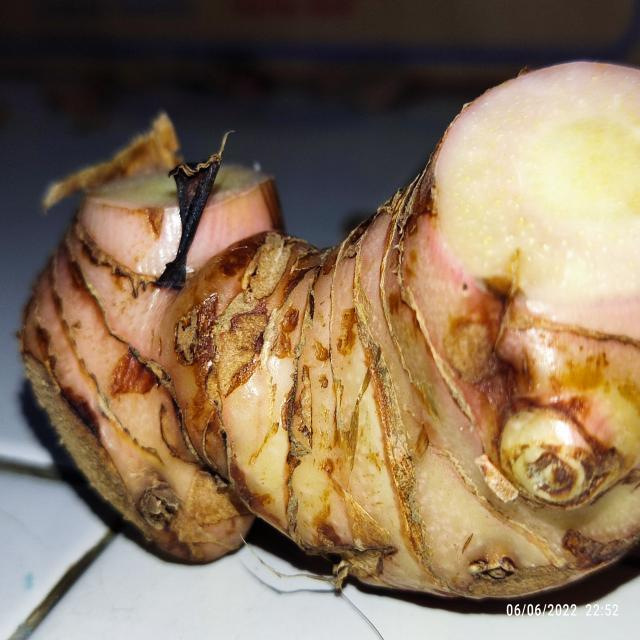ginger: (59, 62, 640, 579)
